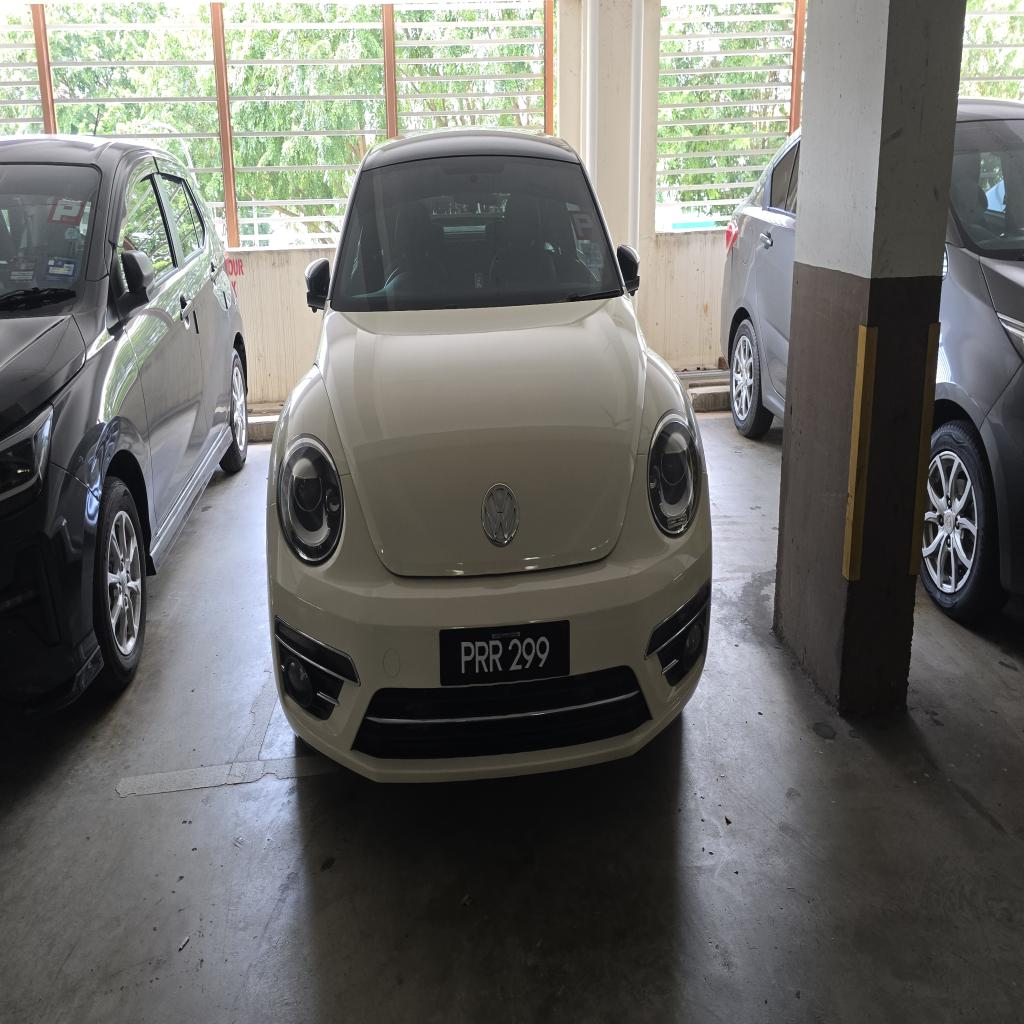car: (267, 131, 711, 780)
car plate: (441, 621, 569, 685)
